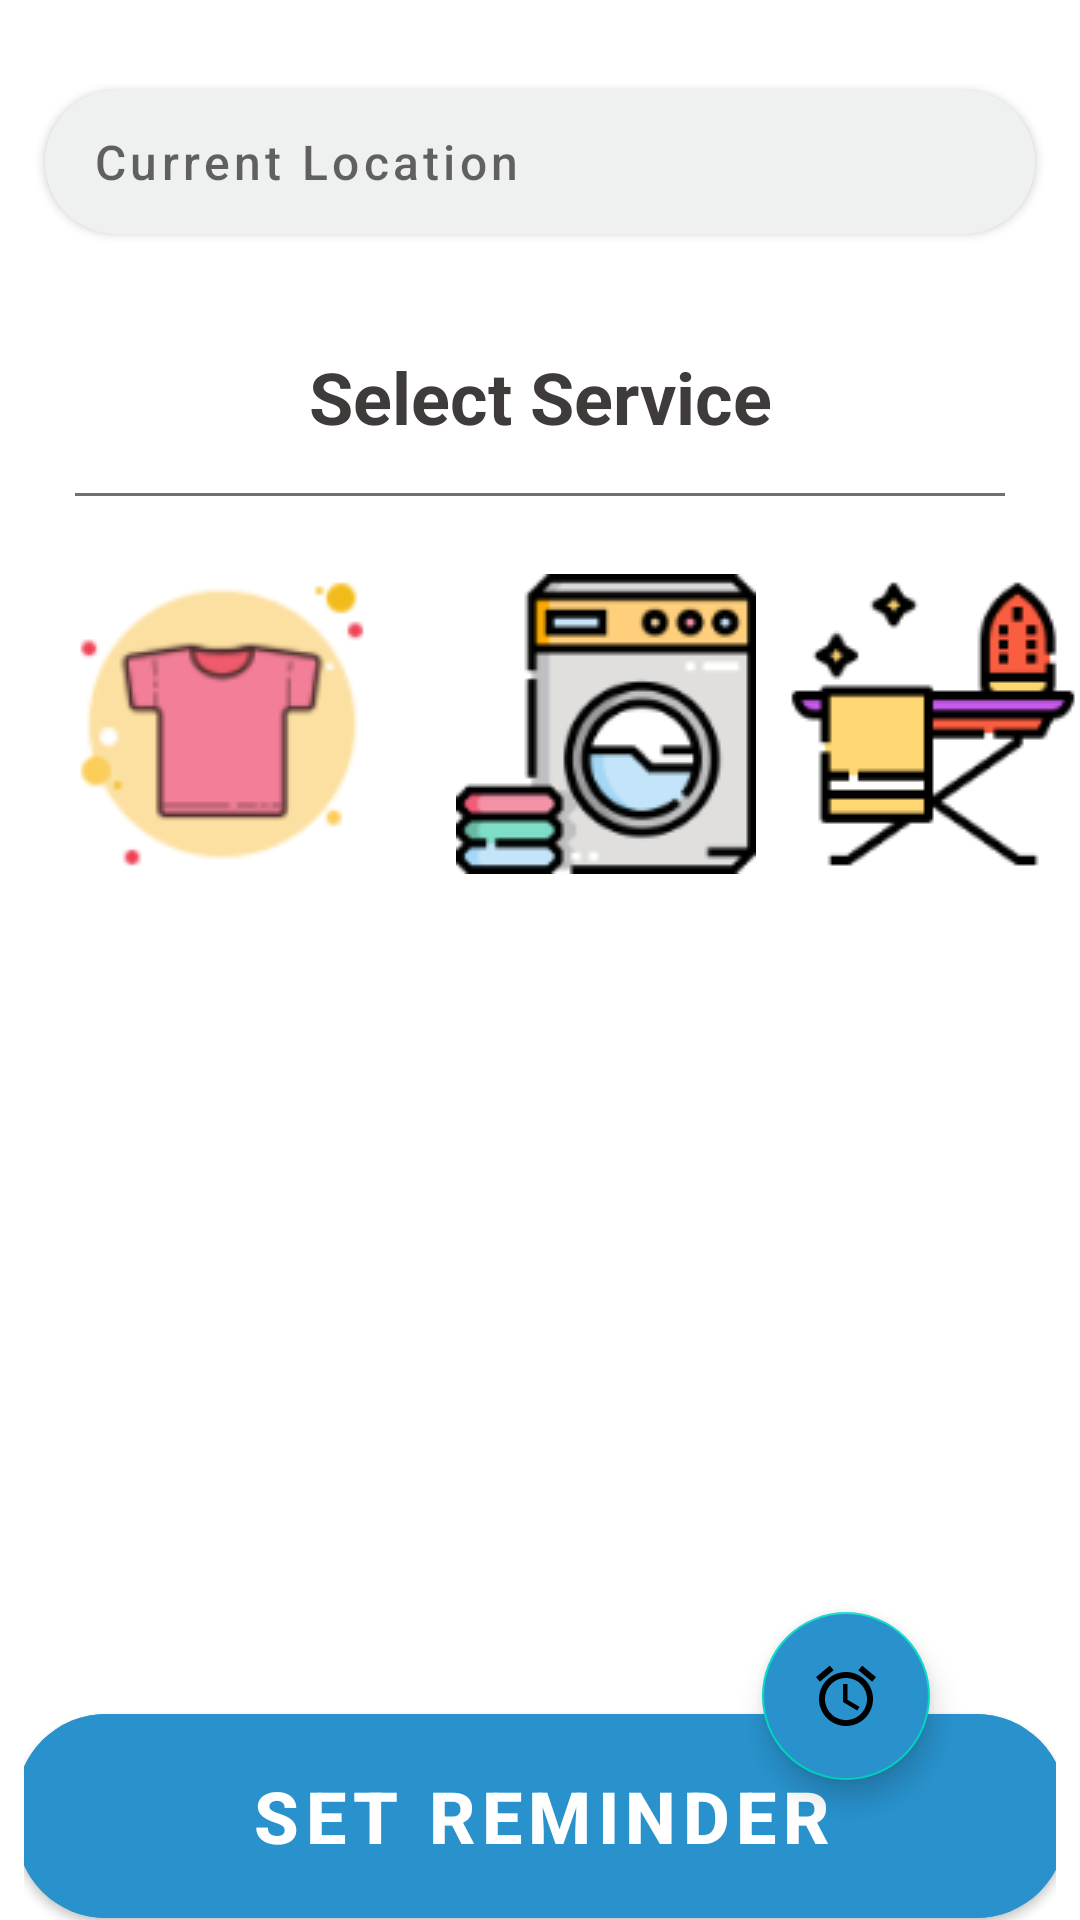

Point at icon controls on the screen. Image size 1080px x 1920px, points as (x=x, y=y).
alarm: (x=846, y=1696)
iron: (x=933, y=724)
shirt: (x=222, y=724)
washing machine: (x=606, y=724)
